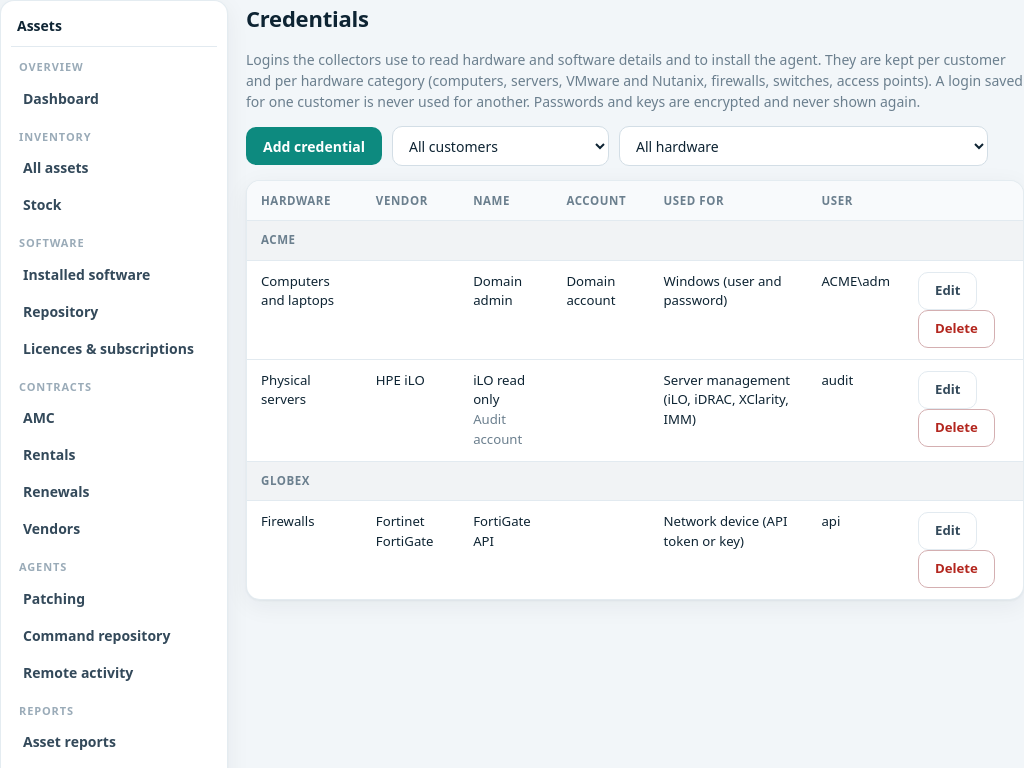
Test: credentials are grouped by customer and can be filtered by hardware category
The width and height of the screenshot is (1024, 768).
Expected: the text "iLO read only" is shown, [473,370,525,408]
Expected: the number of column headings "Acme" is 2, [247,221,1023,261]; [247,462,1023,501]
Select "Firewalls" in the dropdown named "Hardware category": [804, 146] box [619,126,988,166]
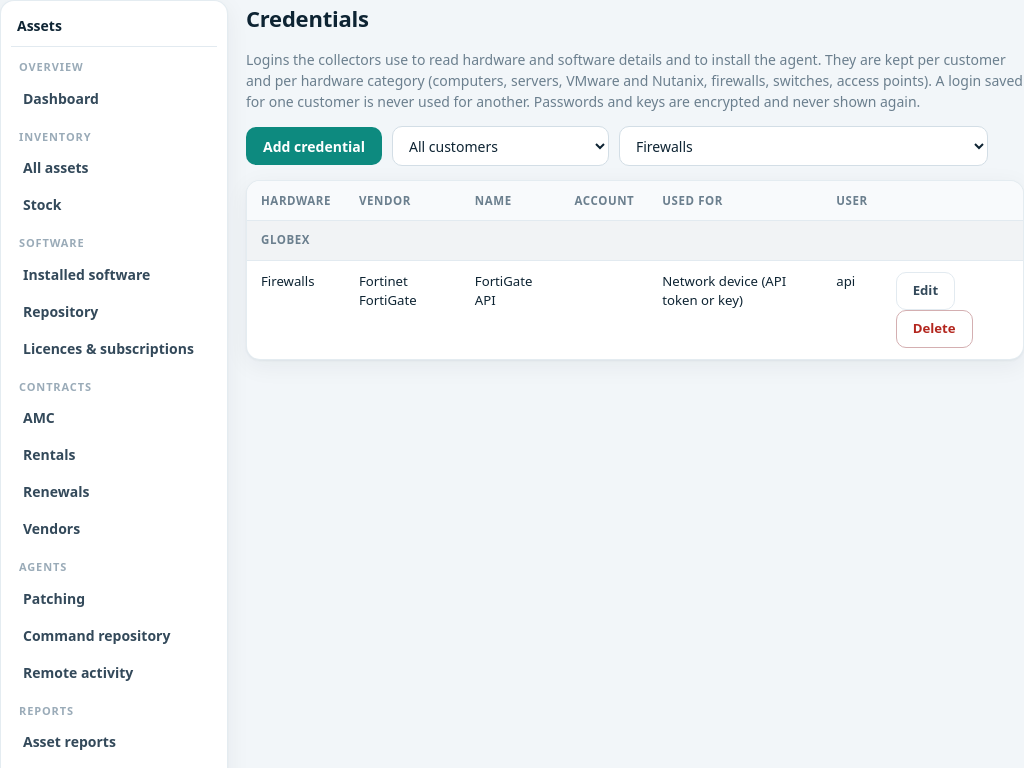
Expected: the text "FortiGate API" is shown, [461,260,560,358]
Expected: the text "iLO read only" is gone
